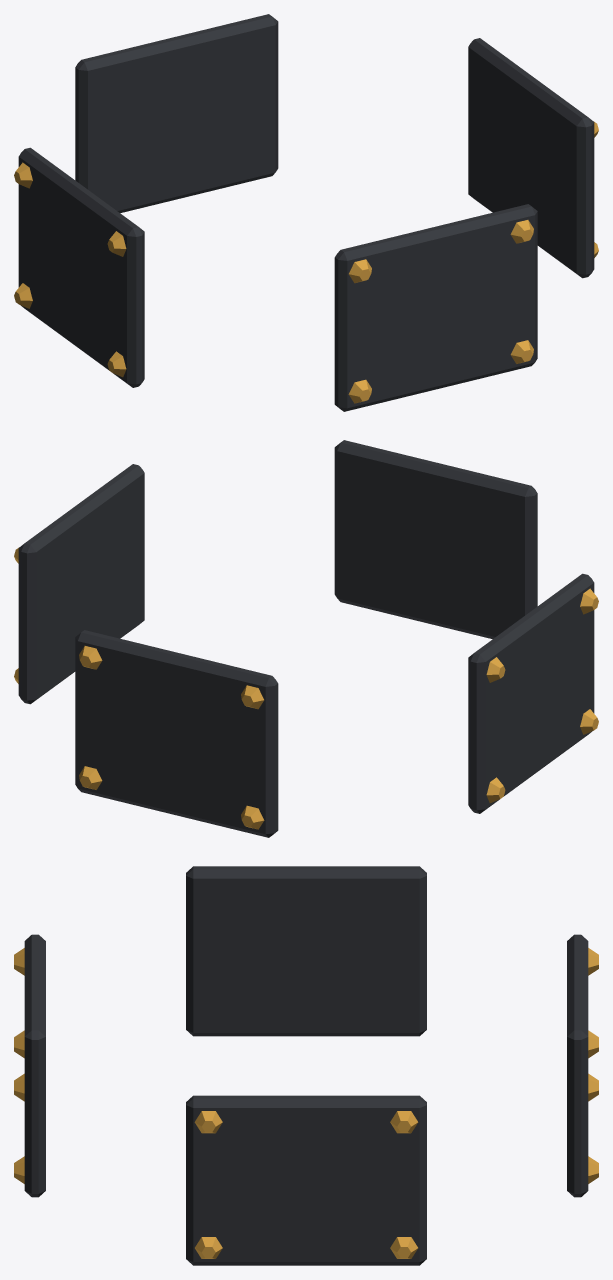
The model's file is GunKit5.obj.
3 views of the same model, one above another, from view 1: azimuth 30°, elevation 25°; view 2: azimuth 150°, elevation 25°; view 3: azimuth 270°, elevation 25° (orthographic). The views are drawn at different scales.
Visible parts, largest first — view 1: GunKit5; view 2: GunKit5; view 3: GunKit5.
Part boxes in pixels (left/top/right/bottom): GunKit5: left=14, top=14, right=598, bottom=411; GunKit5: left=14, top=440, right=598, bottom=837; GunKit5: left=14, top=866, right=598, bottom=1265.
Bounding box in the file's own units: 0.826 × 0.26 × 0.826.
